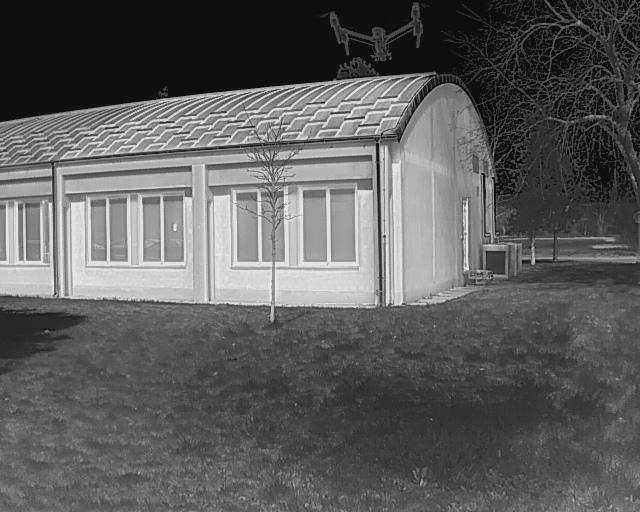drone: (298, 0, 445, 90)
